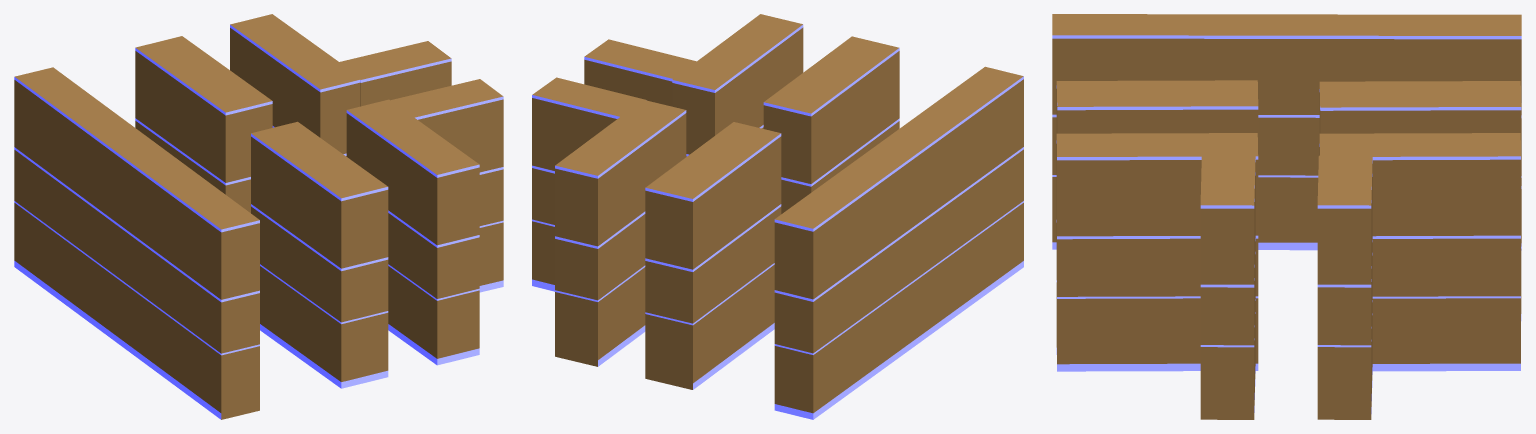
The model's file is mapa1 copy.glb.
3 renders of one model, left to right at view 1: azimuth 30°, elevation 25°; view 2: azimuth 150°, elevation 25°; view 3: azimuth 270°, elevation 25°, orthographic. The views are drawn at different scales.
Visible parts, largest first — view 1: wall_1_, wall_1_.006, wall_1_.001, wall_1_.005, wall_1_.004, wall_1_.003, wall_1_.002; view 2: wall_1_, wall_1_.005, wall_1_.004, wall_1_.006, wall_1_.001, wall_1_.002, wall_1_.003; view 3: wall_1_, wall_1_.001, wall_1_.004, wall_1_.002, wall_1_.003, wall_1_.005, wall_1_.006.
Part boxes in pixels (x1,y1,x2,y2): wall_1_: (14, 67, 259, 419); wall_1_.006: (251, 121, 388, 388); wall_1_.001: (346, 99, 479, 365); wall_1_.005: (135, 36, 272, 212); wall_1_.004: (230, 14, 362, 156); wall_1_.003: (391, 79, 503, 292); wall_1_.002: (339, 41, 451, 106); wall_1_: (774, 66, 1023, 419); wall_1_.005: (645, 122, 781, 389); wall_1_.004: (555, 100, 686, 366); wall_1_.006: (763, 36, 899, 213); wall_1_.001: (672, 14, 803, 156); wall_1_.002: (532, 77, 646, 291); wall_1_.003: (584, 39, 696, 106); wall_1_: (1052, 14, 1521, 250); wall_1_.001: (1056, 133, 1258, 371); wall_1_.004: (1319, 133, 1520, 371); wall_1_.002: (1317, 155, 1372, 419); wall_1_.003: (1200, 156, 1255, 419); wall_1_.005: (1319, 81, 1521, 320); wall_1_.006: (1056, 80, 1258, 154).
Size of what is drawn, in the model's own units: 30.64 by 16 by 31.74.
